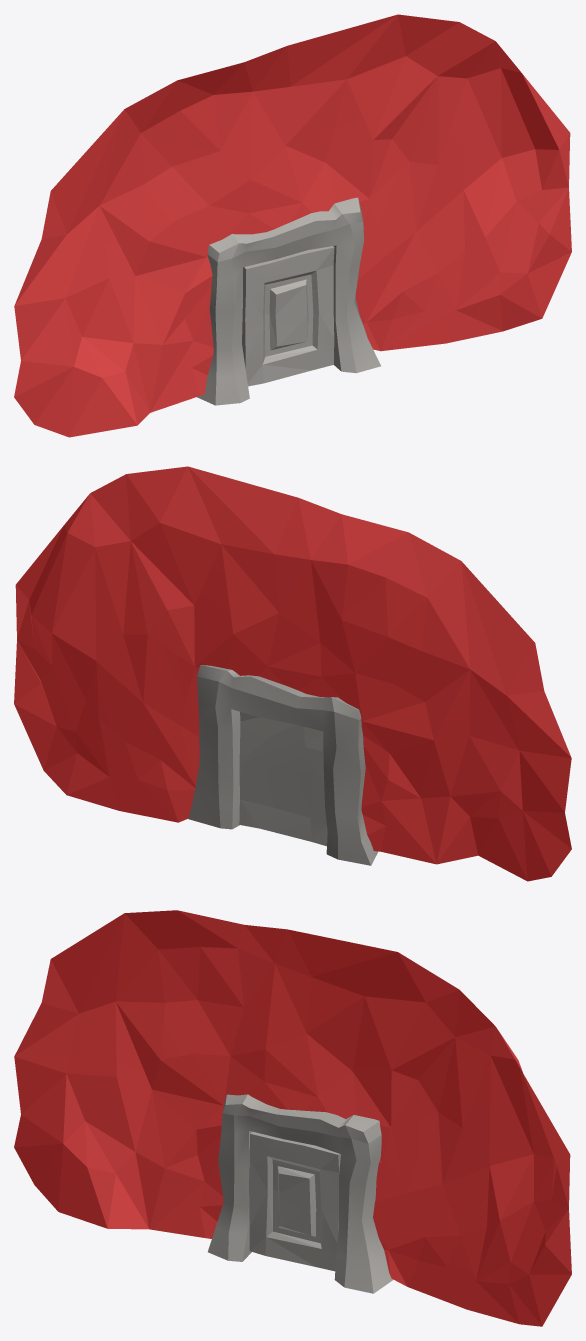
Rendered from whaleDoorBase.fbx.
The picture shows the model from 3 angles, top to bottom: view 1: azimuth 30°, elevation 25°; view 2: azimuth 150°, elevation 25°; view 3: azimuth 330°, elevation 25°; orthographic projection.
Parts seen in each view (by area): view 1: whaleDoorBase, singleDoor; view 2: whaleDoorBase, singleDoor; view 3: whaleDoorBase, singleDoor.
Part boxes in pixels (x1,y1,x2,y2): whaleDoorBase: (14,14,571,437); singleDoor: (242,246,334,386); whaleDoorBase: (14,466,571,881); singleDoor: (239,712,327,846); whaleDoorBase: (14,910,571,1326); singleDoor: (249,1132,340,1271).
Size of the model in its own units: 15.79 by 9.49 by 1.64.
Materials: 2 (1 with a texture image).
